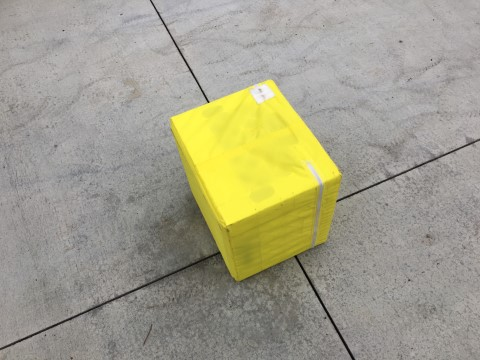cube: (170, 77, 343, 283)
